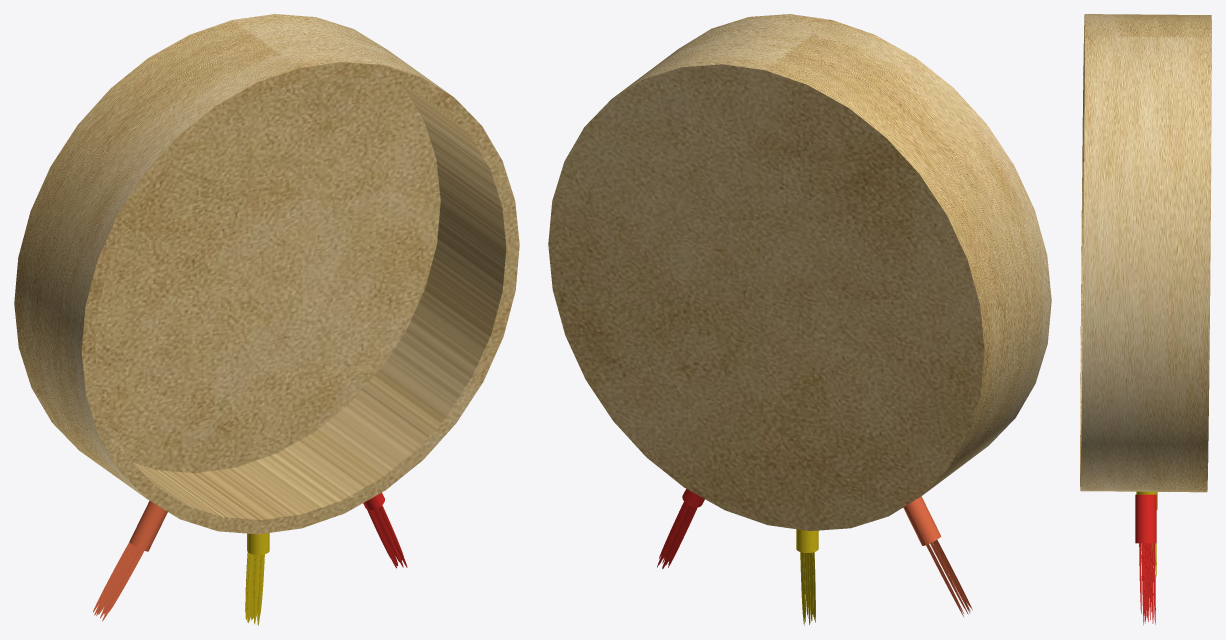
The model's file is tabl saad (1).fbx.
The picture shows the model from 3 angles, left to right: view 1: azimuth 30°, elevation 25°; view 2: azimuth 150°, elevation 25°; view 3: azimuth 270°, elevation 25°; orthographic projection. The views are drawn at different scales.
Parts seen in each view (by area): view 1: Cylinder; view 2: Cylinder; view 3: Cylinder.
Part boxes in pixels (x1,y1,x2,y2): Cylinder: (14,14,519,625); Cylinder: (548,14,1051,625); Cylinder: (1080,14,1211,625).
Bounding box in the file's own units: 200 × 253 × 55.2.
